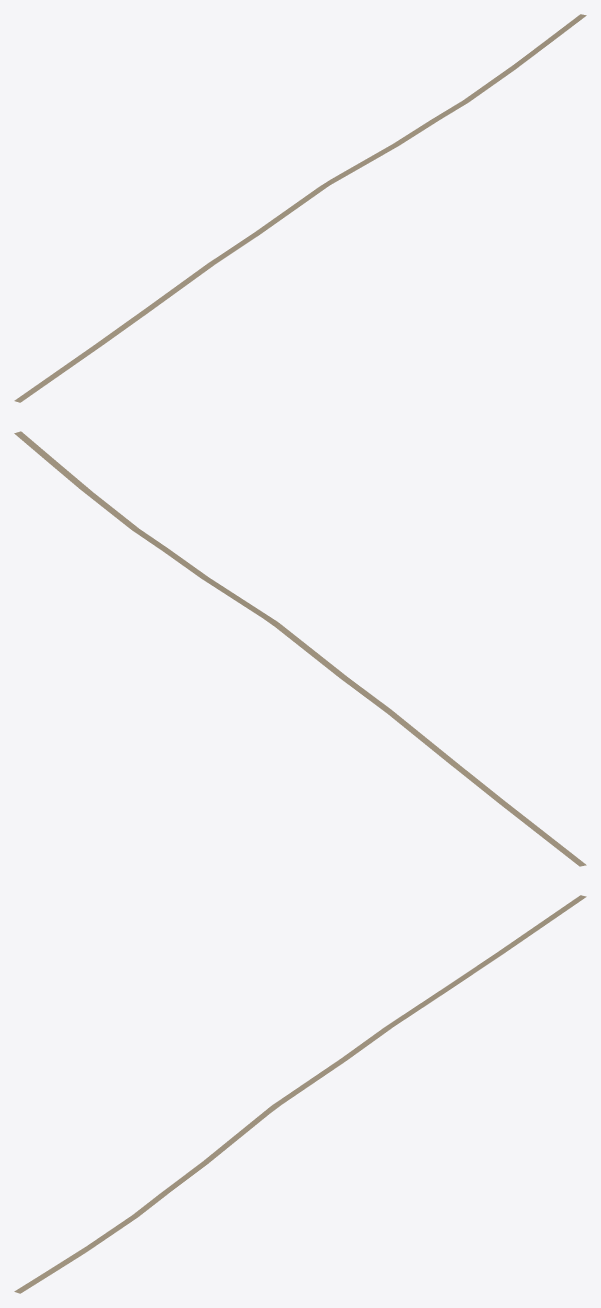
File: farm_23_18_track.glb
The picture shows the model from 3 angles, top to bottom: view 1: azimuth 90°, elevation 25°; view 2: azimuth 150°, elevation 25°; view 3: azimuth 270°, elevation 25°; orthographic projection. The views are drawn at different scales.
Visible parts, largest first — view 1: geometry_0; view 2: geometry_0; view 3: geometry_0.
Boxes of the visible parts, x1,y1,x2,y2 form: geometry_0: (14, 14, 586, 402); geometry_0: (14, 431, 586, 866); geometry_0: (14, 895, 586, 1293).
Size of the model in its own units: 406 by 6.52 by 250.
